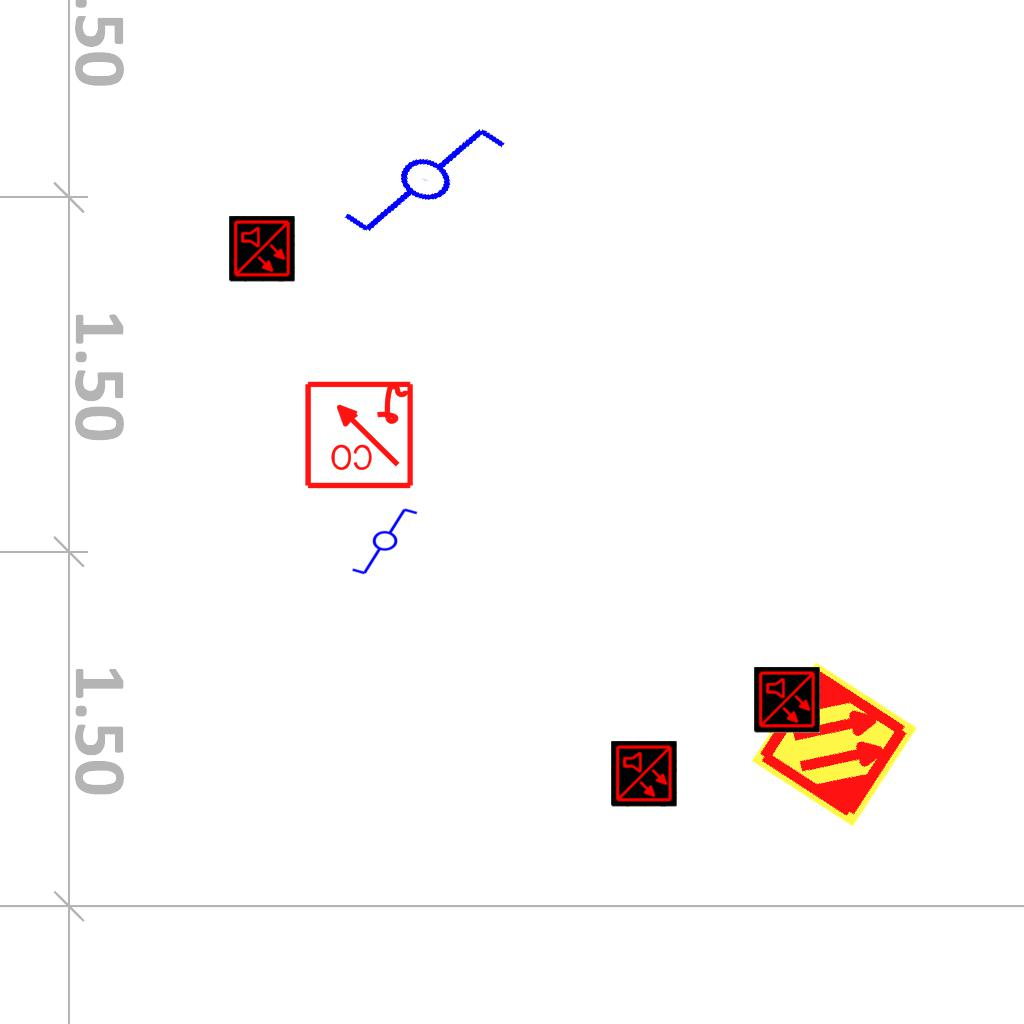ASR_Ansaugrauchmelder: (748, 658, 921, 831)
OKW_Multisensormelder_(Kombination_optischer_Rauch-Kahlenmonoxid_Waerme-Melder): (611, 741, 677, 807), (229, 216, 295, 282), (754, 667, 820, 733)
ROA_Rauchmelder_optisch_mit_Signalgeber_(Sockelsirene): (302, 377, 415, 490)
Wechselschalter: (336, 92, 529, 276), (350, 506, 428, 578)
